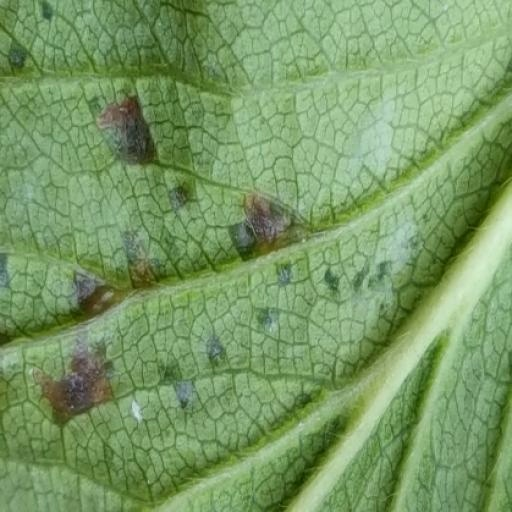Angular Leafspot: (82, 0, 511, 430)
